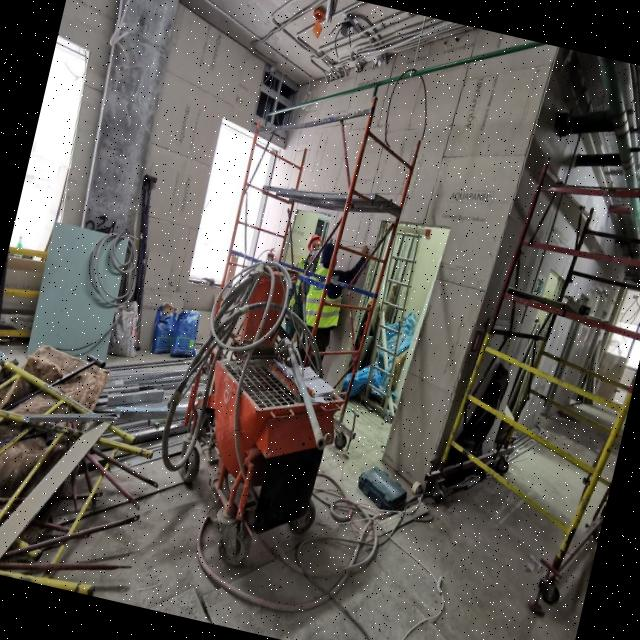Helmet: (320, 244, 336, 266), (307, 233, 323, 253)
Jacket: (304, 271, 346, 329), (293, 257, 319, 296)
